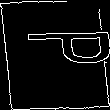P_E: (1, 35, 109, 75)
